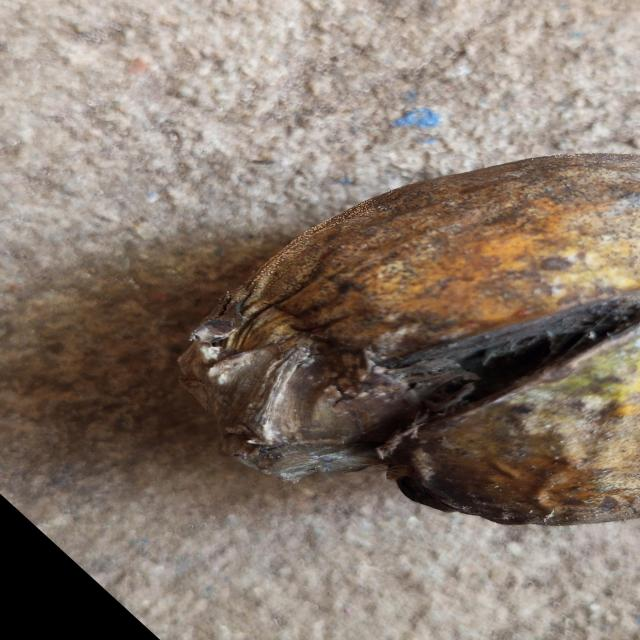damaged: (178, 154, 640, 525)
